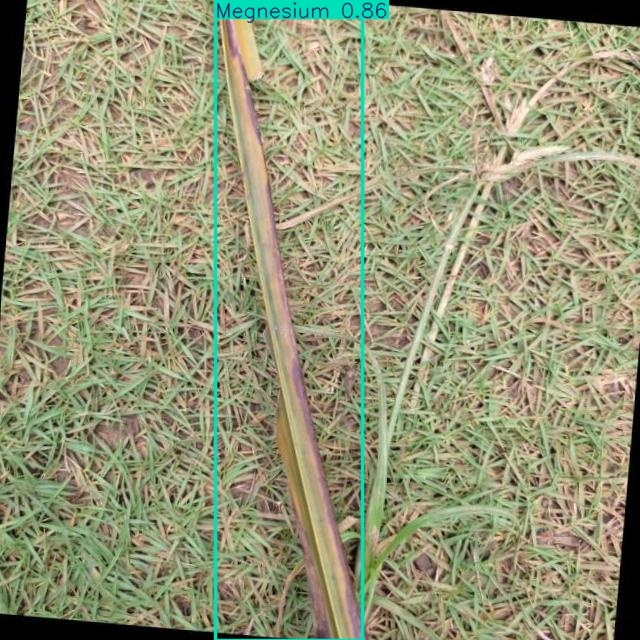Megnesium: (215, 0, 363, 640)
